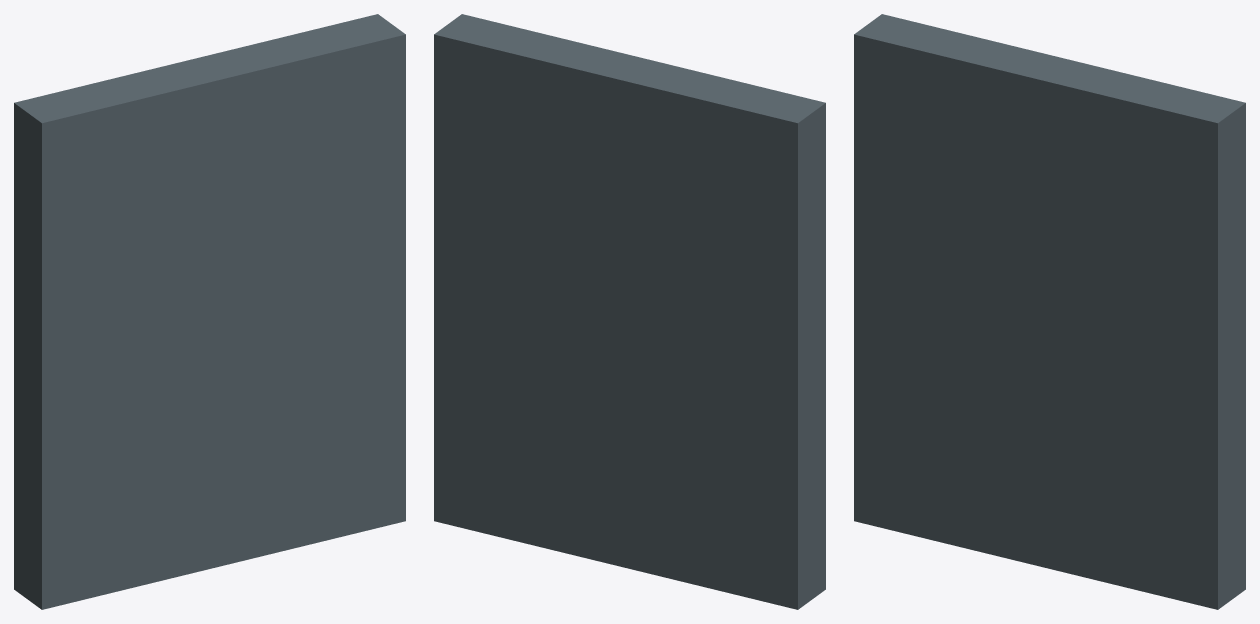
Rendered from electrical_panel.obj.
3 renders of one model, left to right at view 1: azimuth 30°, elevation 25°; view 2: azimuth 150°, elevation 25°; view 3: azimuth 330°, elevation 25°, orthographic.
Parts seen in each view (by area): view 1: electrical_panel; view 2: electrical_panel; view 3: electrical_panel.
Boxes of the visible parts, <box> form: electrical_panel: <box>14,14,405,609</box>; electrical_panel: <box>434,14,825,609</box>; electrical_panel: <box>854,14,1245,609</box>.
Bounding box in the file's own units: 0.9 × 1.15 × 0.13.
